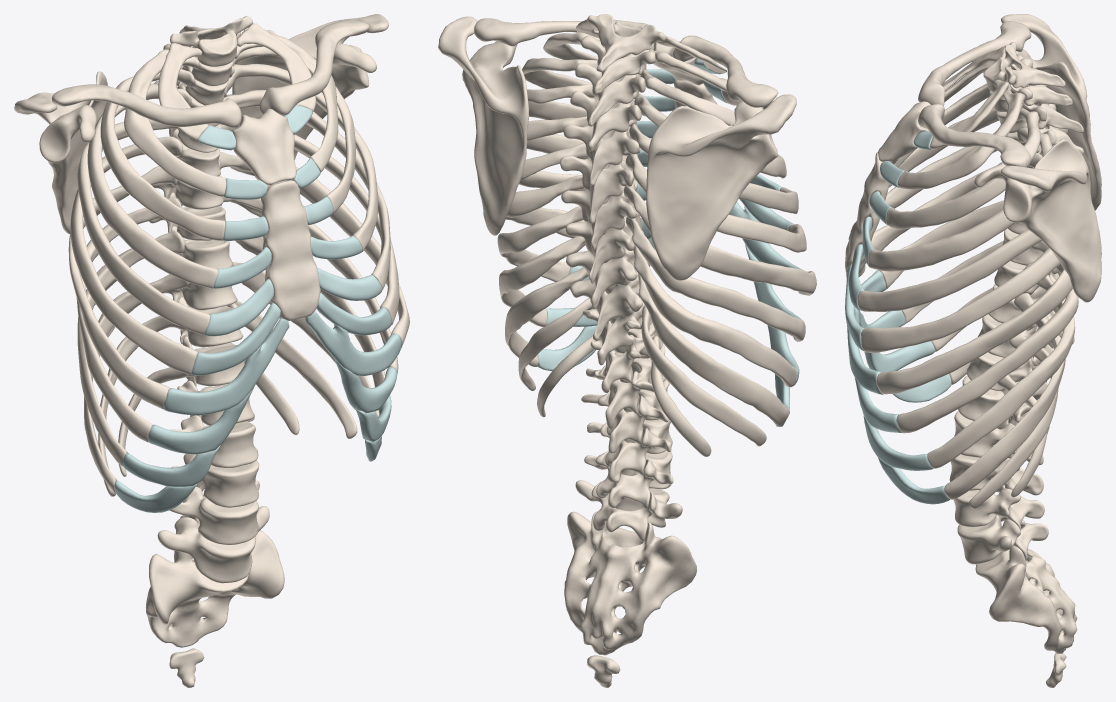
The model's file is pectoral-back-thorax-bones-costal-cart.glb.
3 renders of one model, left to right at view 1: azimuth 30°, elevation 25°; view 2: azimuth 150°, elevation 25°; view 3: azimuth 270°, elevation 25°, orthographic. The views are drawn at different scales.
Visible parts, largest first — view 1: Sacrum, Body of sternum, Scapula.r., Rib (6th).r, Rib (4th).r, Scapula.l, Rib (5th).r, Rib (3rd).r, Clavicle.r, Rib (2nd).r, Rib (7th).r, Manubrium of sternum (+51 smaller); view 2: Scapula.r., Sacrum, Scapula.l, Rib (9th).r, Rib (10th).r, Rib (8th).r, Rib (7th).r, Rib (11th).r, Lumbar vertebrae (L5), Lumbar vertebrae (L4), Lumbar vertebrae (L3), Clavicle.r (+40 smaller); view 3: Scapula.l, Sacrum, Rib (7th).l, Rib (6th).l, Rib (8th).l, Scapula.r., Rib (5th).l, Rib (9th).l, Rib (4th).l, Rib (10th).l, Rib (3rd).l, Lumbar vertebrae (L5) (+40 smaller).
Boxes of the visible parts, x1,y1,x2,y2 form: Sacrum: [146, 530, 284, 647]; Body of sternum: [261, 180, 320, 320]; Scapula.r.: [14, 71, 107, 234]; Rib (6th).r: [70, 136, 197, 374]; Rib (4th).r: [87, 83, 218, 288]; Scapula.l: [232, 14, 388, 179]; Rib (5th).r: [77, 119, 210, 334]; Rib (3rd).r: [100, 69, 225, 240]; Clavicle.r: [52, 84, 241, 128]; Rib (2nd).r: [124, 49, 226, 196]; Rib (7th).r: [68, 166, 177, 409]; Manubrium of sternum: [232, 108, 296, 185]; Scapula.r.: [646, 94, 796, 280]; Sacrum: [564, 511, 696, 655]; Scapula.l: [438, 16, 529, 235]; Rib (9th).r: [633, 244, 796, 387]; Rib (10th).r: [638, 273, 789, 426]; Rib (8th).r: [625, 217, 805, 341]; Rib (7th).r: [623, 183, 816, 295]; Rib (11th).r: [641, 306, 766, 446]; Lumbar vertebrae (L5): [575, 480, 682, 541]; Lumbar vertebrae (L4): [584, 450, 673, 508]; Lumbar vertebrae (L3): [587, 419, 672, 482]; Clavicle.r: [673, 35, 778, 107]; Scapula.l: [974, 139, 1101, 302]; Sacrum: [975, 519, 1077, 653]; Rib (7th).l: [876, 269, 1072, 394]; Rib (6th).l: [861, 247, 1060, 352]; Rib (8th).l: [896, 240, 1078, 433]; Scapula.r.: [1001, 14, 1101, 210]; Rib (5th).l: [857, 152, 1042, 311]; Rib (9th).l: [927, 263, 1075, 468]; Rib (4th).l: [868, 127, 1052, 271]; Rib (10th).l: [944, 293, 1065, 499]; Rib (3rd).l: [886, 108, 1040, 229]; Lumbar vertebrae (L5): [957, 515, 1048, 564].
Size of the model in its own units: 0.3467 by 0.6227 by 0.2298.
